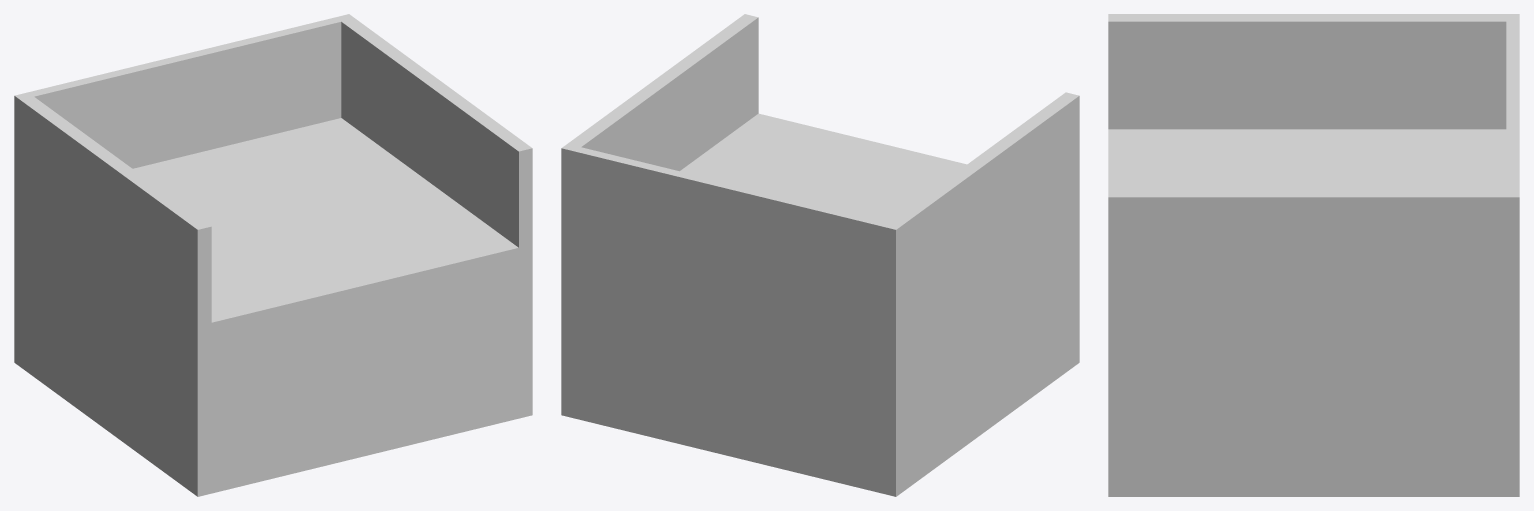
The model's file is Counter_2_B.glb.
3 renders of one model, left to right at view 1: azimuth 30°, elevation 25°; view 2: azimuth 150°, elevation 25°; view 3: azimuth 270°, elevation 25°, orthographic. The views are drawn at different scales.
Parts seen in each view (by area): view 1: Counter 2 B; view 2: Counter 2 B; view 3: Counter 2 B.
Boxes of the visible parts, x1,y1,x2,y2 form: Counter 2 B: (14, 14, 532, 496); Counter 2 B: (561, 14, 1079, 496); Counter 2 B: (1108, 14, 1519, 496).
Bounding box in the file's own units: 1 × 0.7623 × 0.949.
Materials: 1 (1 with a texture image).
